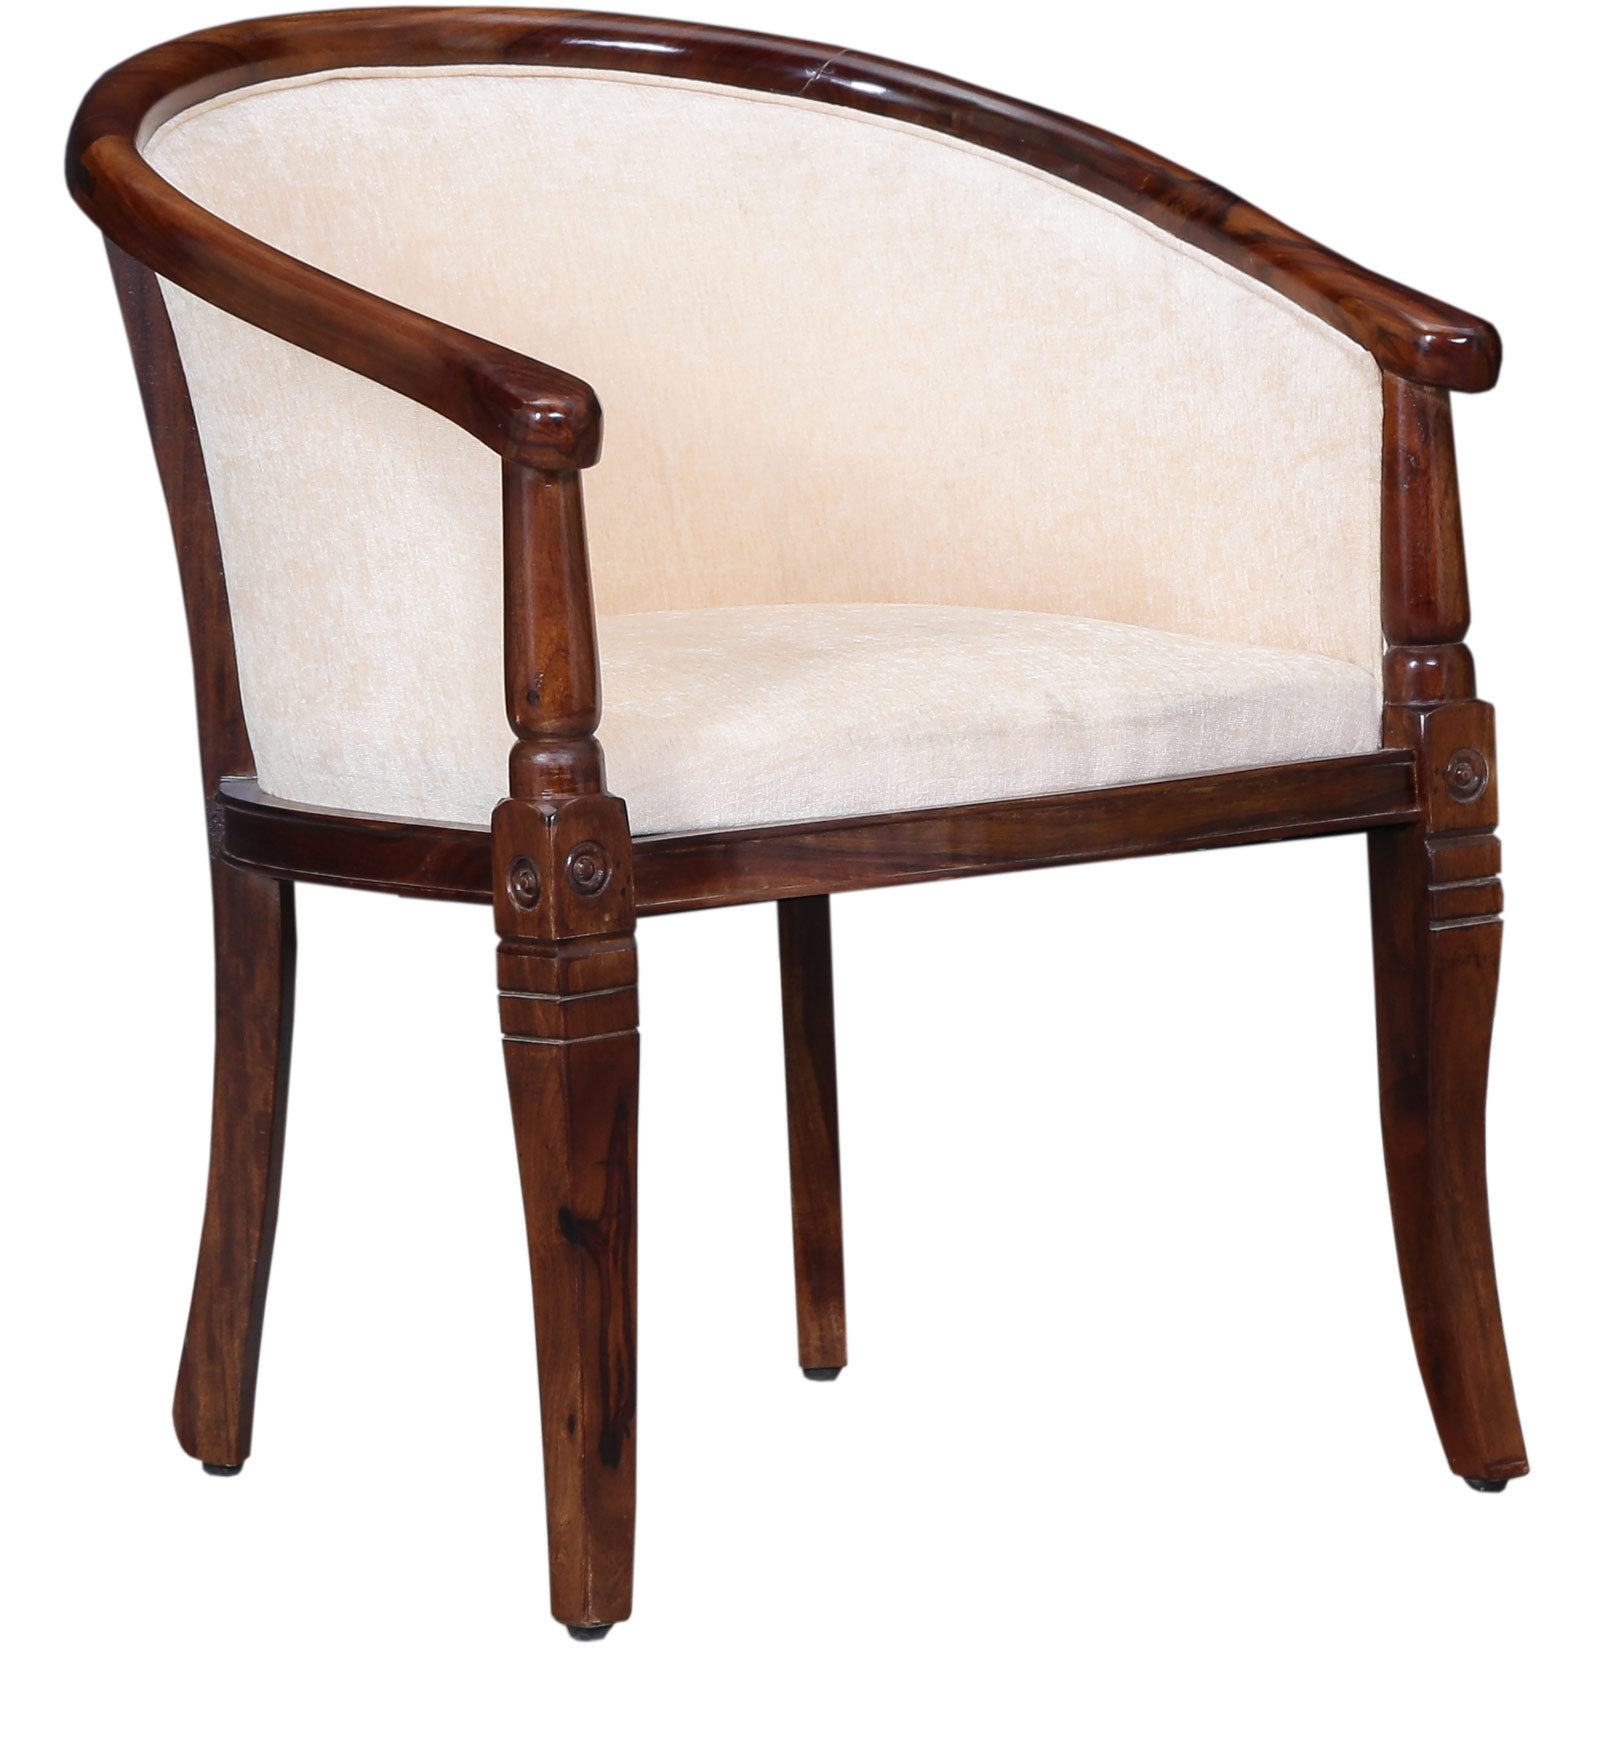Stalley Arm Chair in Cream Color with Honey Oak Finish by Amberville: (35, 8, 1552, 1651)
